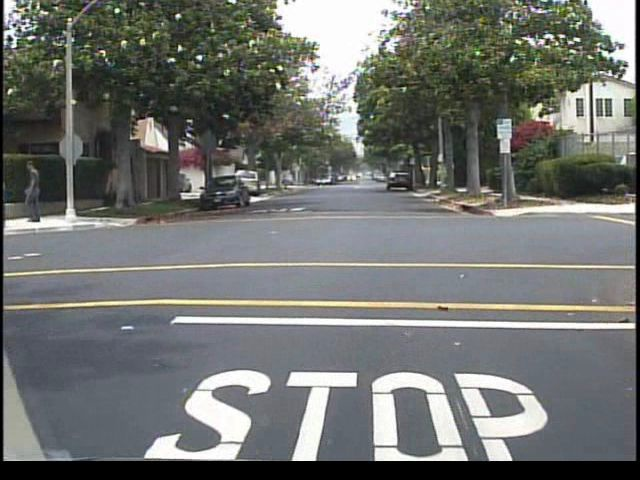person: (18, 156, 52, 227)
